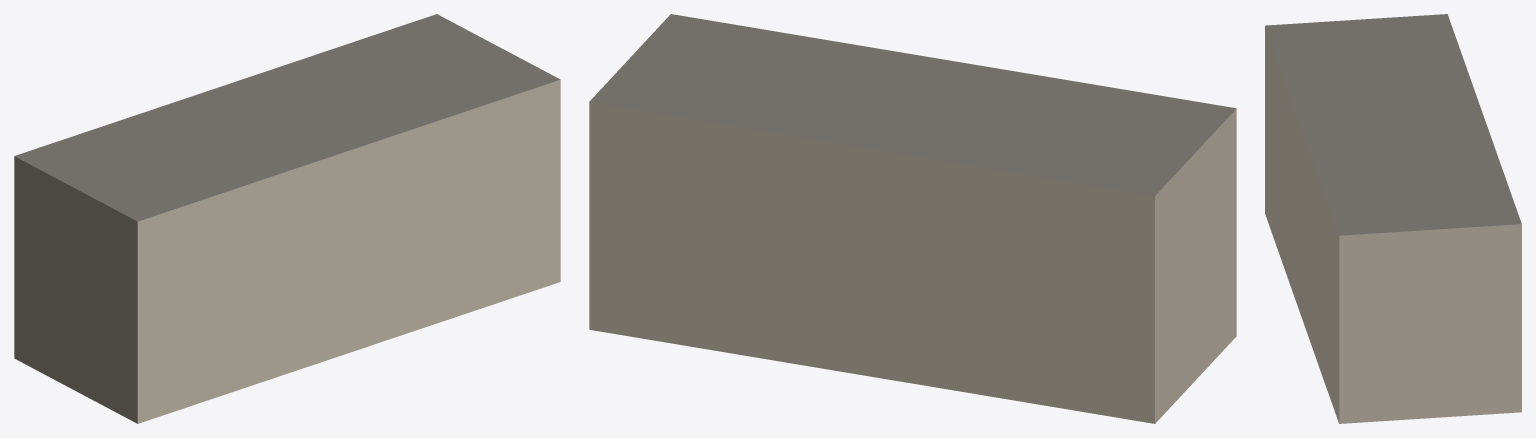
3 renders of one model, left to right at view 1: azimuth 30°, elevation 25°; view 2: azimuth 150°, elevation 25°; view 3: azimuth 270°, elevation 25°, orthographic. The views are drawn at different scales.
Visible parts, largest first — view 1: HP-w1202493211; view 2: HP-w1202493211; view 3: HP-w1202493211.
Boxes of the visible parts, <box> form: HP-w1202493211: <box>14,14,560,423</box>; HP-w1202493211: <box>589,14,1236,423</box>; HP-w1202493211: <box>1265,14,1521,423</box>.
Bounding box in the file's own units: 30.31 × 12 × 14.83.
